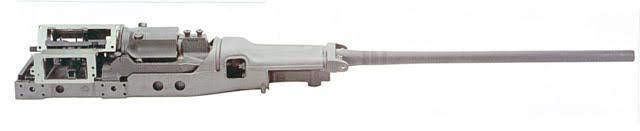gun: (9, 5, 639, 104)
